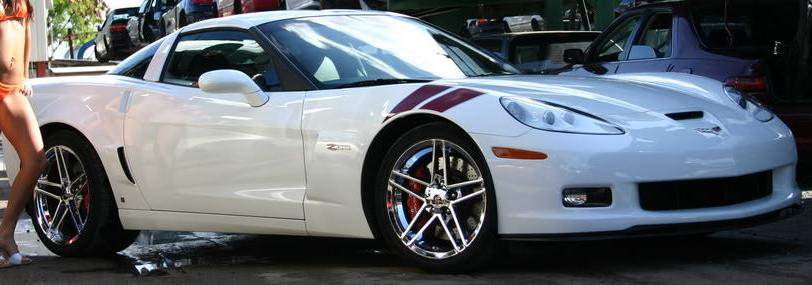front_view: (488, 78, 805, 247)
headlight: (493, 90, 629, 141)
side_glass: (156, 32, 302, 97)
